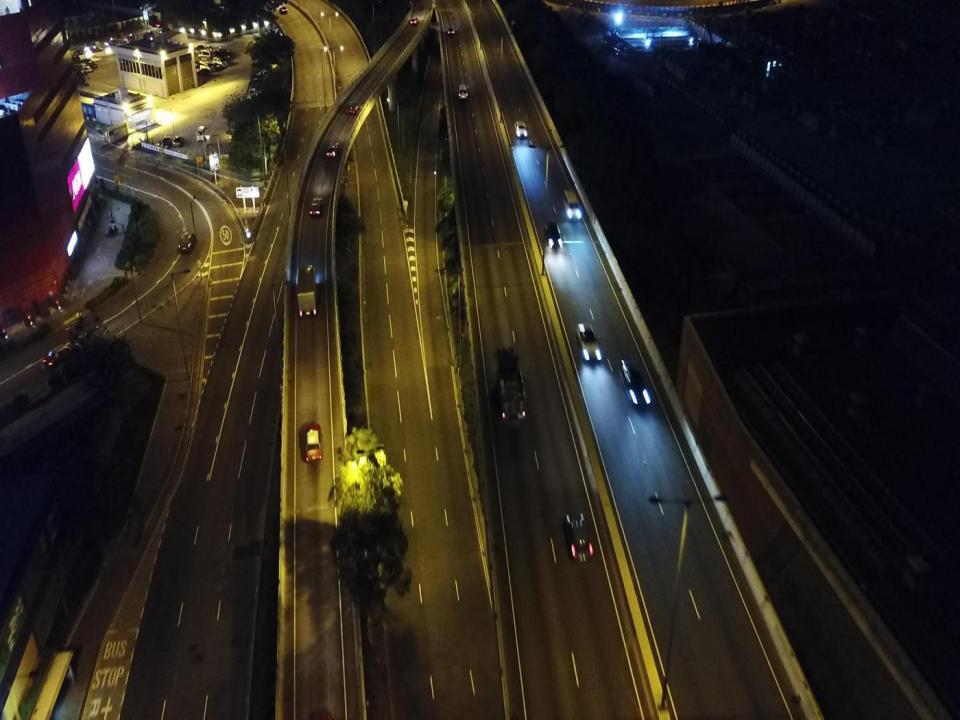car: (621, 359, 651, 410), (565, 510, 592, 564), (576, 322, 603, 364), (42, 343, 81, 367), (302, 422, 324, 462), (546, 222, 562, 249), (178, 232, 196, 254), (309, 196, 322, 218), (514, 120, 527, 140), (326, 142, 340, 159), (346, 100, 359, 116), (196, 125, 206, 142), (206, 62, 223, 70), (173, 136, 184, 148), (197, 68, 212, 76), (87, 40, 102, 48), (214, 50, 231, 57), (162, 137, 172, 148), (72, 47, 84, 56), (159, 26, 172, 34), (125, 34, 138, 42), (106, 37, 119, 45), (195, 44, 208, 51), (90, 46, 103, 53), (447, 27, 456, 36), (90, 55, 101, 62), (410, 16, 419, 24), (279, 6, 287, 15)
truck: (496, 351, 526, 423), (296, 261, 318, 316)
van: (562, 190, 582, 221), (197, 60, 214, 72), (197, 50, 214, 61), (458, 83, 468, 101), (212, 57, 228, 68), (143, 31, 155, 38)
